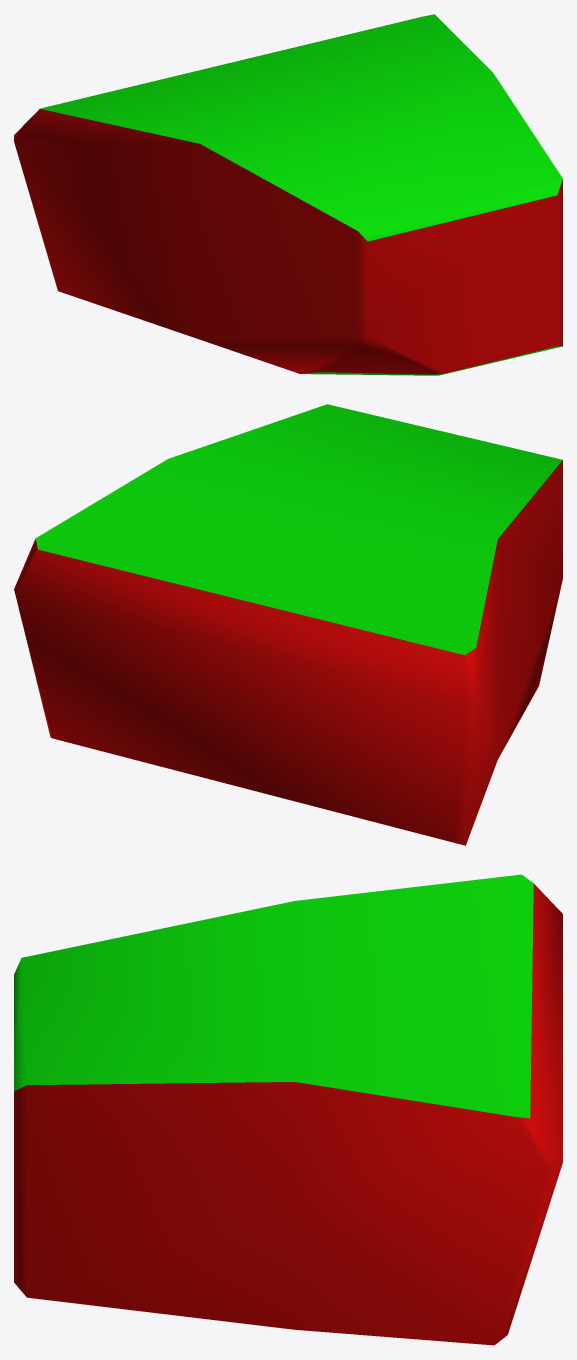
Rendered from M_Ressource_Block_B.FBX.
The picture shows the model from 3 angles, top to bottom: view 1: azimuth 30°, elevation 25°; view 2: azimuth 150°, elevation 25°; view 3: azimuth 270°, elevation 25°; orthographic projection. The views are drawn at different scales.
Visible parts, largest first — view 1: Ressource_Block_B; view 2: Ressource_Block_B; view 3: Ressource_Block_B.
Boxes of the visible parts, x1,y1,x2,y2 form: Ressource_Block_B: [14, 14, 562, 375]; Ressource_Block_B: [14, 404, 562, 845]; Ressource_Block_B: [14, 874, 562, 1345].
Size of the model in its own units: 268 by 121 by 243.
